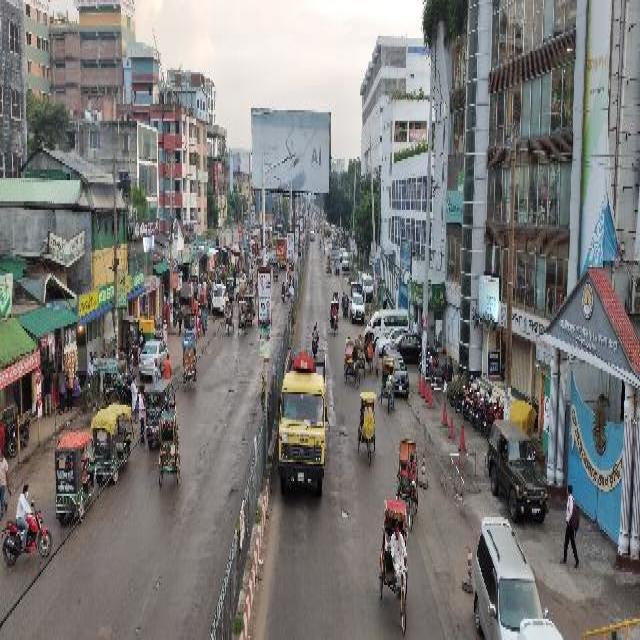bike: (2, 511, 52, 562), (8, 419, 32, 455), (97, 382, 119, 408), (448, 380, 470, 406), (483, 412, 503, 440), (473, 398, 494, 424), (114, 373, 132, 400), (455, 387, 474, 412), (464, 392, 485, 413), (429, 362, 447, 383), (420, 359, 440, 376), (419, 354, 439, 369), (312, 322, 320, 354), (128, 343, 140, 364), (282, 279, 286, 300), (325, 245, 326, 253), (320, 239, 321, 246), (315, 226, 316, 232)
vehicle: (474, 510, 543, 635), (281, 340, 325, 495), (490, 420, 549, 517), (380, 495, 411, 630), (56, 430, 97, 519), (95, 401, 133, 490), (400, 433, 421, 529), (147, 376, 175, 446), (365, 307, 410, 348), (159, 410, 182, 484), (385, 332, 430, 361), (359, 390, 377, 462), (140, 338, 169, 376), (386, 349, 409, 395), (376, 325, 411, 351), (344, 339, 361, 384), (383, 359, 396, 414), (183, 341, 197, 390), (351, 279, 366, 321), (213, 283, 229, 312), (277, 236, 288, 266), (245, 294, 256, 323), (363, 271, 374, 299), (226, 300, 235, 334), (239, 301, 248, 333), (357, 335, 365, 371), (331, 300, 339, 329), (254, 252, 268, 263), (272, 232, 282, 247), (228, 278, 235, 297), (343, 251, 350, 268), (274, 259, 280, 278), (357, 269, 363, 284), (324, 222, 330, 237), (240, 279, 245, 296), (336, 256, 341, 273), (328, 259, 333, 274), (340, 247, 346, 259), (335, 289, 339, 306), (327, 253, 331, 270), (332, 237, 336, 248), (311, 234, 315, 241), (332, 229, 335, 237), (312, 229, 315, 233), (317, 226, 319, 232), (311, 221, 313, 225)
